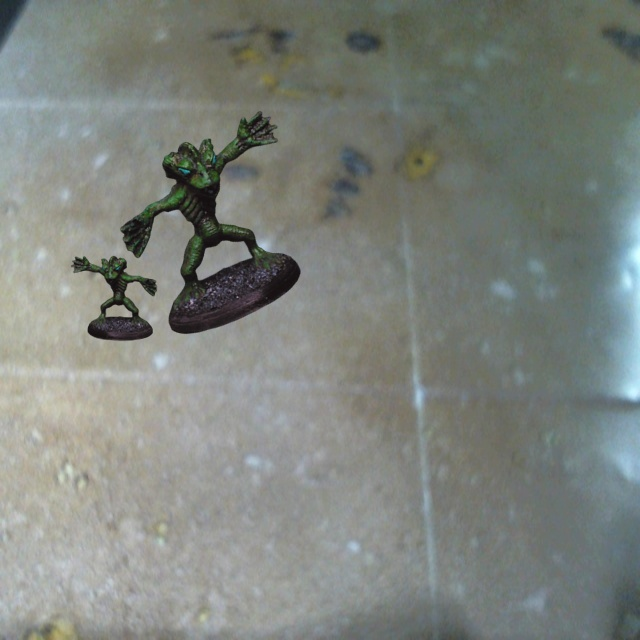pieza_juego: (120, 111, 300, 333), (71, 256, 156, 340)
